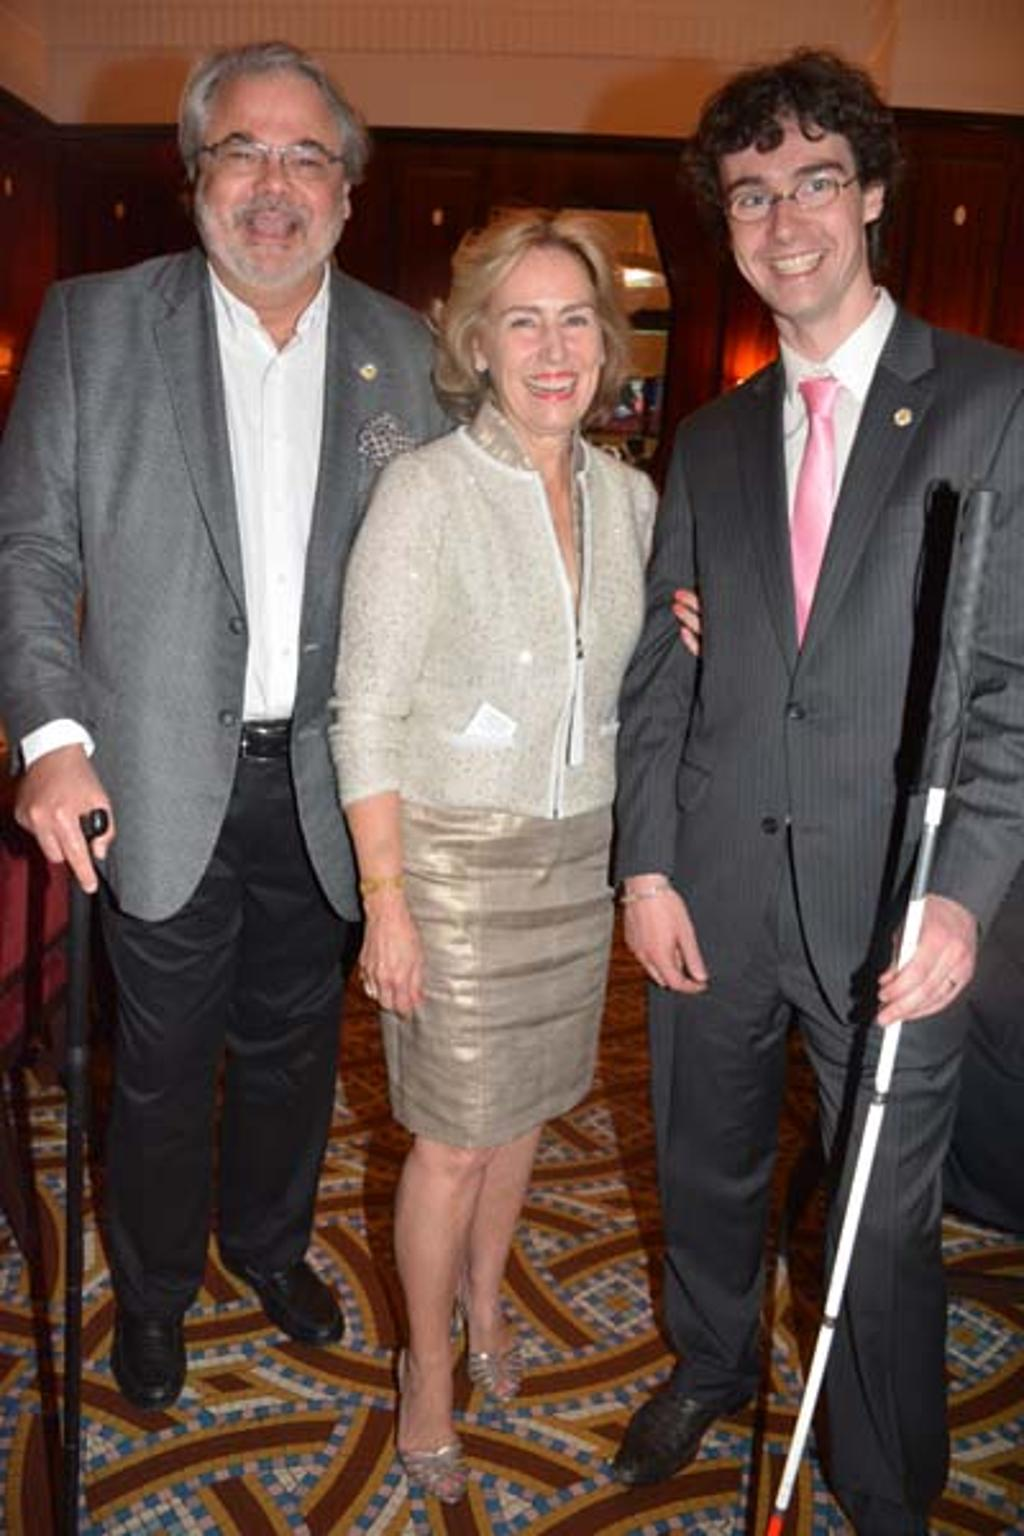face: (201, 63, 345, 297), (730, 117, 862, 315), (483, 246, 606, 429)
